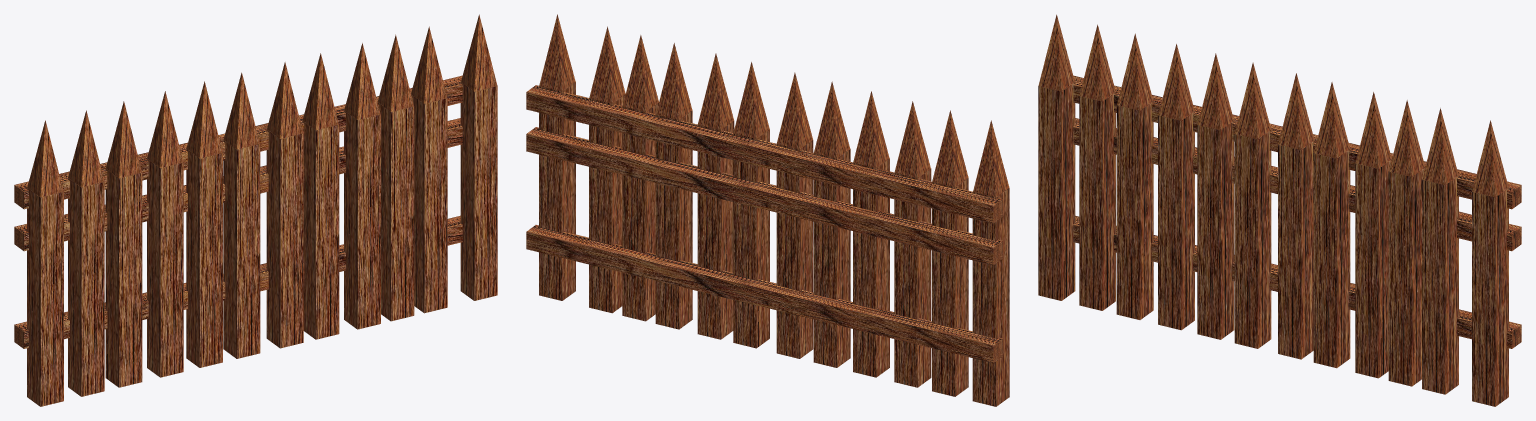
The model's file is Fence.obj.
3 views of the same model, side by side, from view 1: azimuth 30°, elevation 25°; view 2: azimuth 150°, elevation 25°; view 3: azimuth 330°, elevation 25° (orthographic).
Parts seen in each view (by area): view 1: 立方体.002; view 2: 立方体.002; view 3: 立方体.002.
Part boxes in pixels (<box>): 立方体.002: <box>14,14,497,406</box>; 立方体.002: <box>526,14,1009,406</box>; 立方体.002: <box>1038,14,1521,406</box>.
Bounding box in the file's own units: 14 × 8 × 1.1.
1 material, 1 textured.
